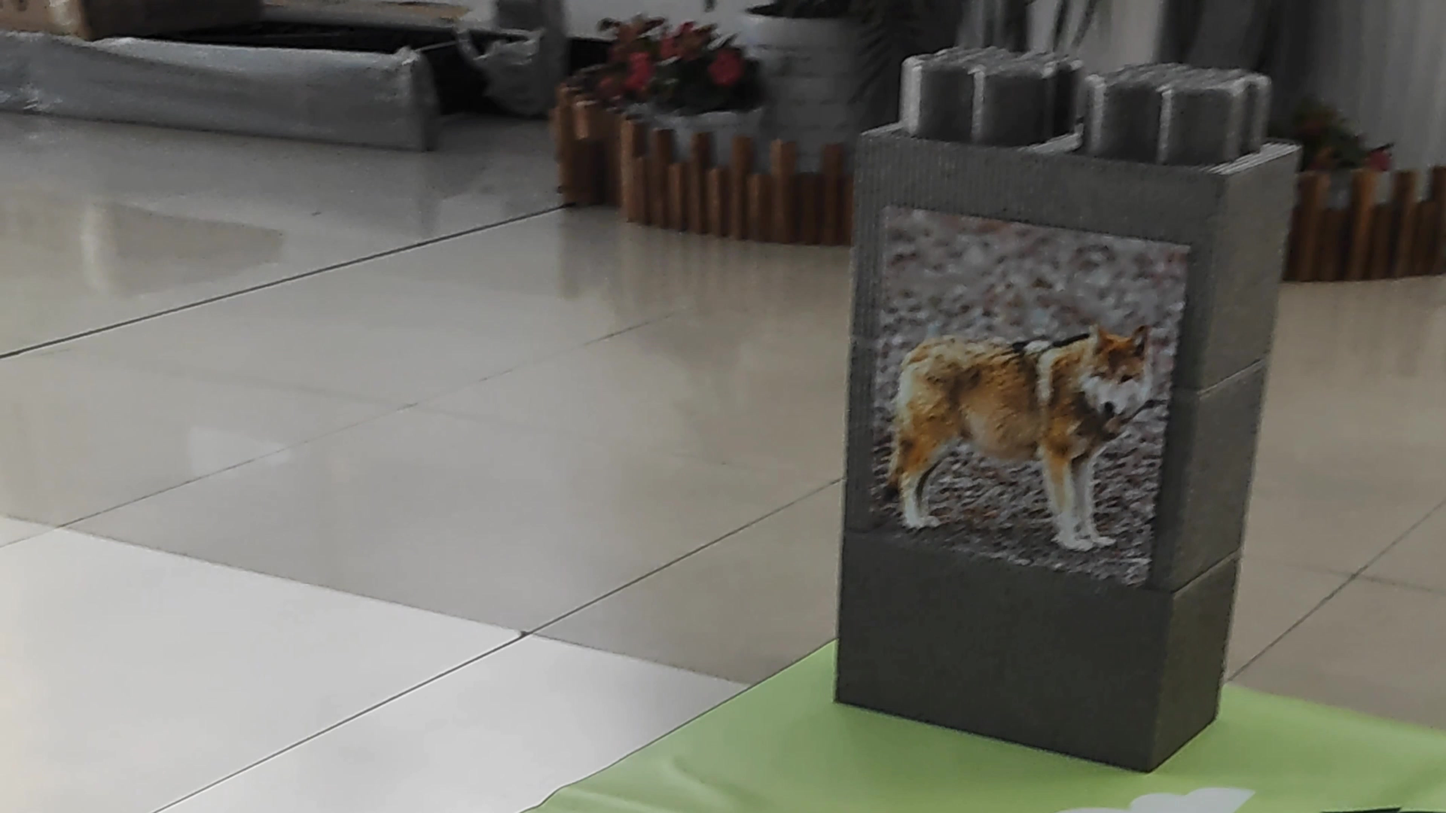wolf: (866, 264, 1171, 573)
